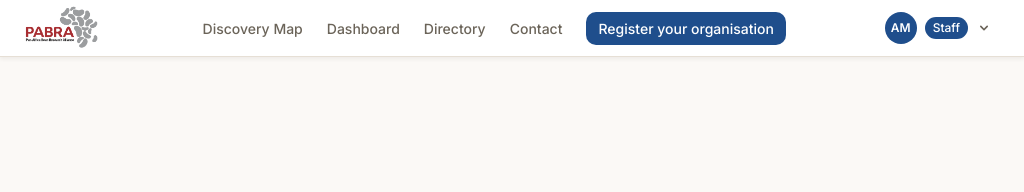
Scenario: Header — authenticated (Staff) › renders a sign-out item inside the account menu
// Sign-out now lives in the account dropdown (opened via the avatar button).
Click the button with aria-label "account menu": click(940, 28) [881,8,1000,48]
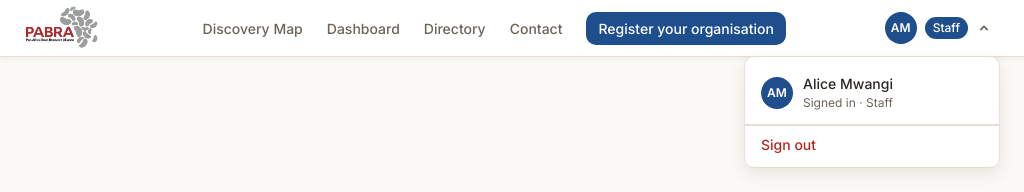
expect the menu item "Sign out" is shown: met, box [745,126,999,163]
